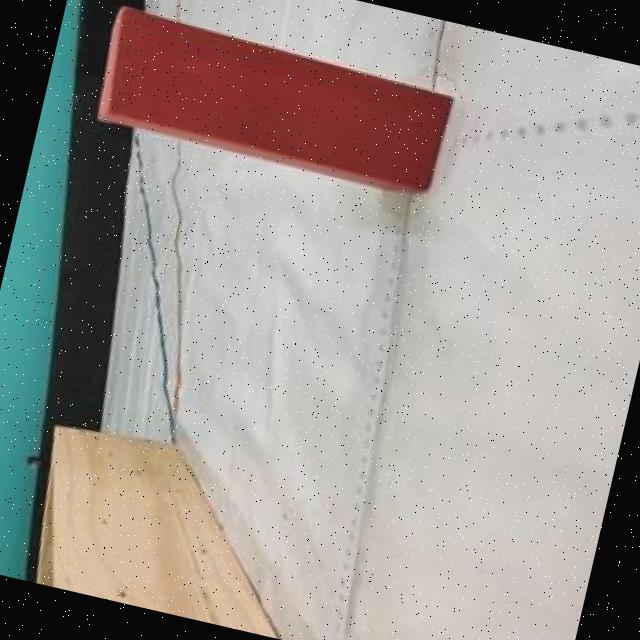redbox: (86, 2, 456, 204)
